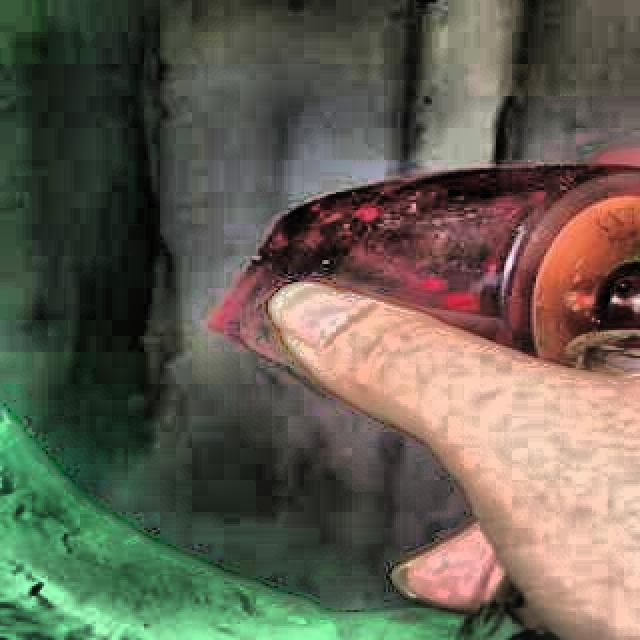glass: (211, 166, 640, 369)
